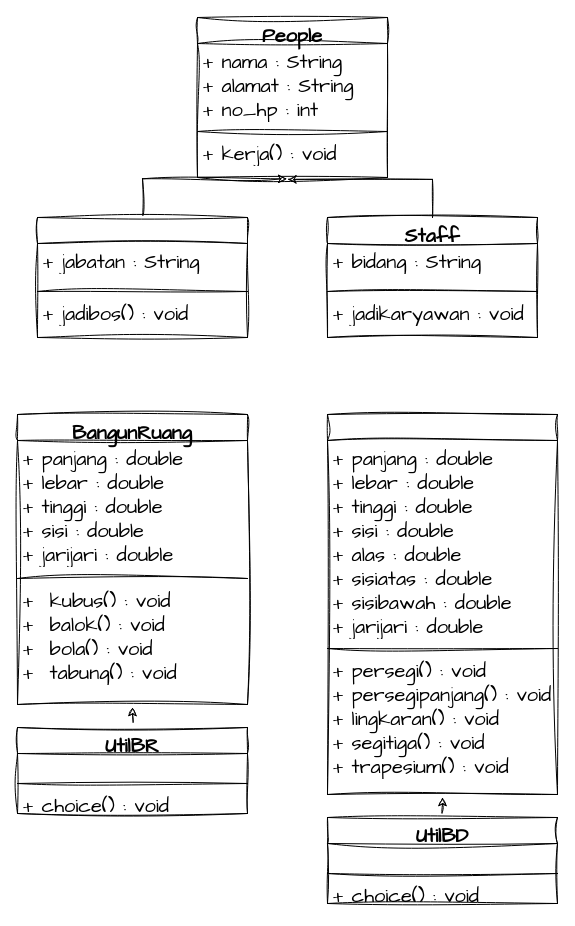
This 575x926 diagram has some shape labels left out. The shapes that lost their labels are listed below. From the top down, each one's box as (x1, y1, x2, y2) in pixels, then its label:
(36, 216, 248, 338): Core
(326, 414, 558, 794): BangunDatar
